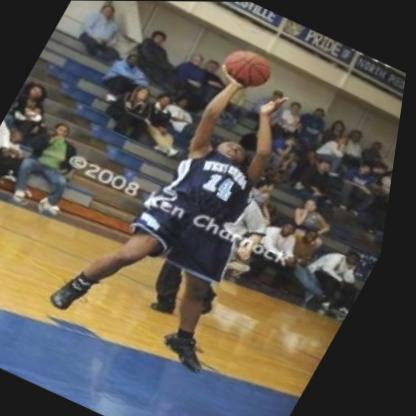basketball: (217, 39, 283, 96)
